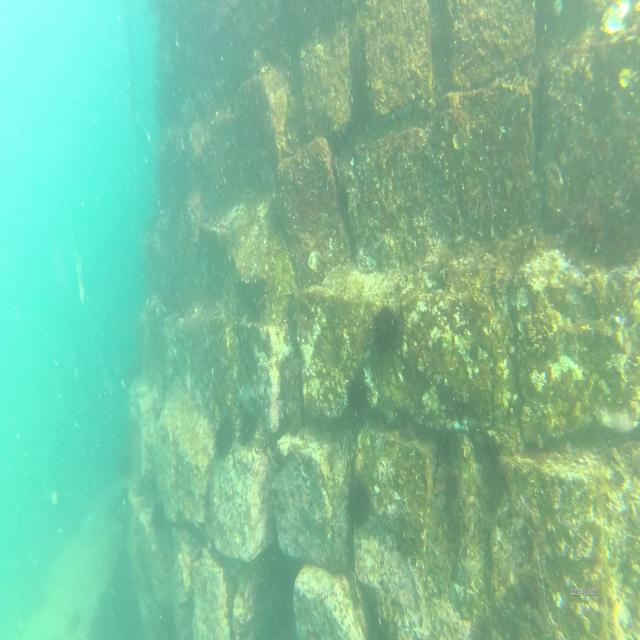echinus: (368, 299, 404, 363), (346, 475, 374, 534), (344, 373, 372, 424), (212, 416, 236, 456), (238, 409, 259, 450), (150, 498, 168, 532)
scallop: (599, 0, 632, 39)
